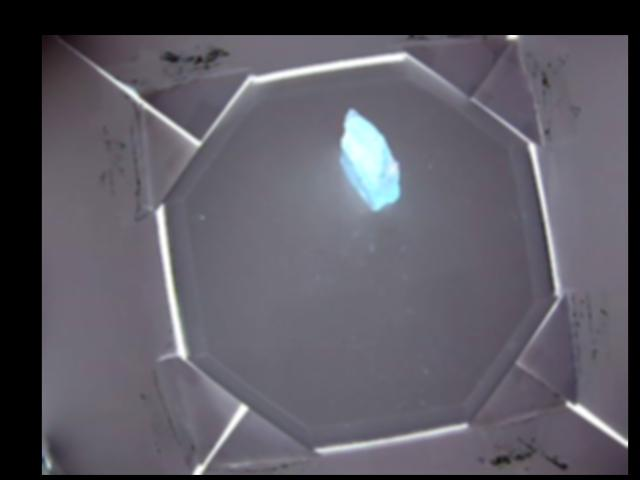Brisk: (342, 109, 399, 210)
